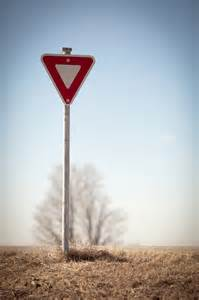yield_sign: (39, 53, 95, 107)
